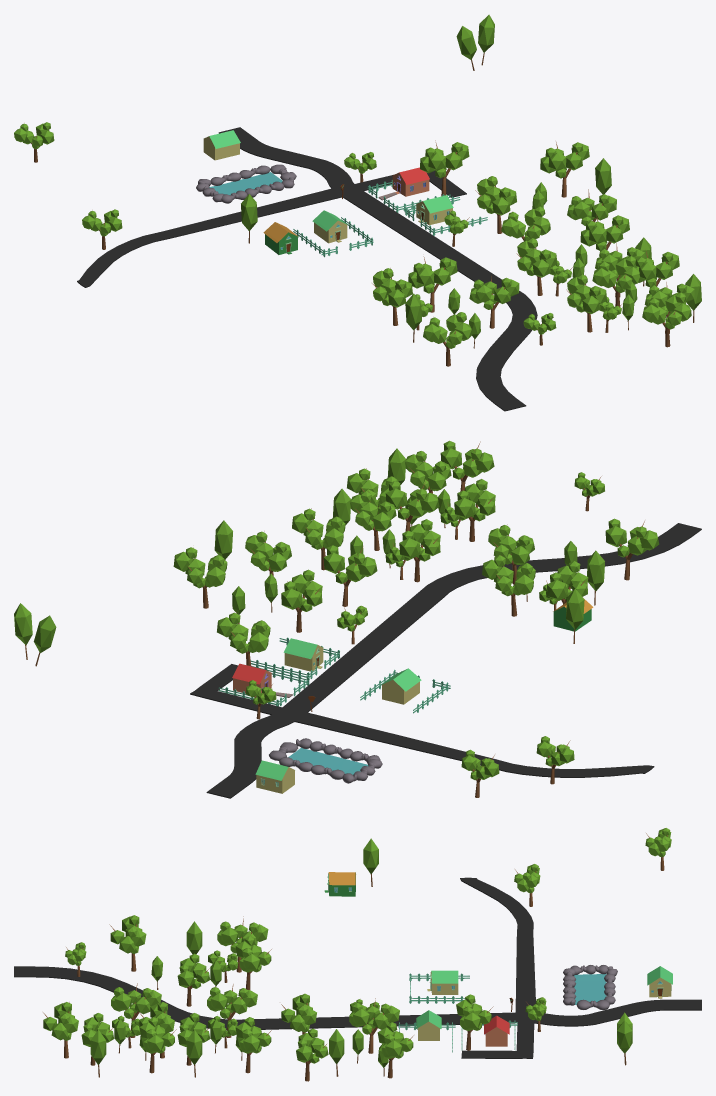
3 renders of one model, top to bottom at view 1: azimuth 30°, elevation 25°; view 2: azimuth 150°, elevation 25°; view 3: azimuth 270°, elevation 25°, orthographic. The views are drawn at different scales.
Visible parts, largest first — view 1: Road, Rock, Tree_Leaf_018, Tree_Leaf_008, Tree_Leaf_024, Tree_Leaf, Tree_Leaf_011, Tree_Leaf_012, Tree_Leaf_017, Tree_Leaf_004, Tree_Leaf_022, Tree_Leaf_007 (+15 smaller); view 2: Road, Rock, Tree_Leaf_004, Tree_Leaf_024, Tree_Leaf, Tree_Leaf_014, Tree_Leaf_008, Tree_Leaf_012, Tree_Leaf_022, Tree_Leaf_017, Tree_Leaf_021, Tree_Leaf_010 (+21 smaller); view 3: Road, Rock, Tree_Leaf_022, Tree_Leaf_012, Tree_Leaf_017, Tree_Leaf_007, Tree_Leaf_008, Tree_Leaf_018, Tree_Leaf_014, Tree_Leaf_024, Tree_Leaf_015, Tree_Leaf_004 (+23 smaller).
Part boxes in pixels (x1=…): Road: x1=77, y1=127, x2=537, y2=411; Rock: x1=196, y1=164, x2=296, y2=203; Tree_Leaf_018: x1=642, y1=292, x2=691, y2=347; Tree_Leaf_008: x1=423, y1=312, x2=472, y2=366; Tree_Leaf_024: x1=540, y1=142, x2=589, y2=197; Tree_Leaf: x1=420, y1=140, x2=469, y2=196; Tree_Leaf_011: x1=592, y1=256, x2=640, y2=306; Tree_Leaf_012: x1=516, y1=238, x2=557, y2=295; Tree_Leaf_017: x1=566, y1=274, x2=607, y2=332; Tree_Leaf_004: x1=408, y1=256, x2=457, y2=312; Tree_Leaf_022: x1=475, y1=176, x2=516, y2=233; Tree_Leaf_007: x1=372, y1=268, x2=412, y2=325; Road: x1=190, y1=523, x2=701, y2=798; Rock: x1=269, y1=738, x2=382, y2=783; Tree_Leaf_004: x1=482, y1=555, x2=535, y2=616; Tree_Leaf_024: x1=173, y1=547, x2=227, y2=608; Tree_Leaf: x1=217, y1=612, x2=270, y2=666; Tree_Leaf_014: x1=292, y1=508, x2=345, y2=570; Tree_Leaf_008: x1=605, y1=518, x2=659, y2=580; Tree_Leaf_012: x1=399, y1=519, x2=440, y2=582; Tree_Leaf_022: x1=281, y1=569, x2=322, y2=632; Tree_Leaf_017: x1=454, y1=479, x2=495, y2=541; Tree_Leaf_021: x1=323, y1=545, x2=377, y2=606; Tree_Leaf_010: x1=350, y1=491, x2=396, y2=550; Road: x1=14, y1=877, x2=701, y2=1058; Rock: x1=563, y1=965, x2=617, y2=1009; Tree_Leaf_022: x1=349, y1=998, x2=399, y2=1053; Tree_Leaf_012: x1=207, y1=984, x2=257, y2=1037; Tree_Leaf_017: x1=111, y1=983, x2=161, y2=1037; Tree_Leaf_007: x1=217, y1=916, x2=268, y2=972; Tree_Leaf_008: x1=109, y1=915, x2=146, y2=971; Tree_Leaf_018: x1=43, y1=1002, x2=78, y2=1058; Tree_Leaf_014: x1=235, y1=1017, x2=271, y2=1073; Tree_Leaf_024: x1=377, y1=1022, x2=413, y2=1078; Tree_Leaf_015: x1=139, y1=1017, x2=176, y2=1073; Tree_Leaf_004: x1=235, y1=936, x2=271, y2=989.
Size of the model in its own units: 59.9 by 74.69 by 12.04.
